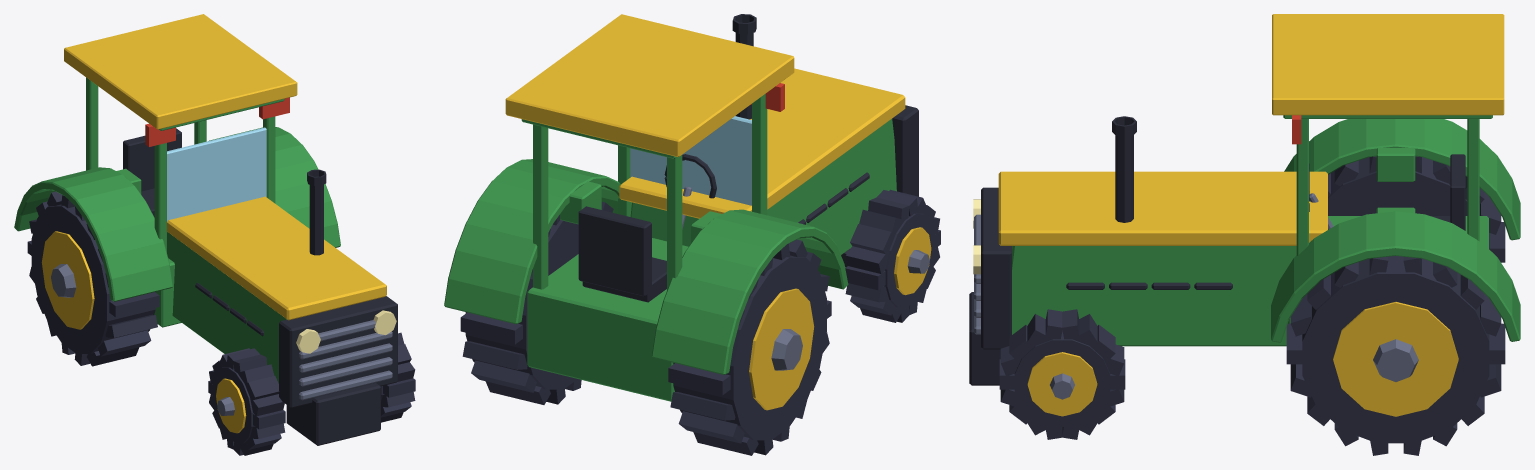
The model's file is myw_tractor.glb.
3 views of the same model, side by side, from view 1: azimuth 30°, elevation 25°; view 2: azimuth 150°, elevation 25°; view 3: azimuth 270°, elevation 25° (orthographic). The views are drawn at different scales.
Parts seen in each view (by area): view 1: Body, Cab, Fenders, RearWheelL, FrontWheelL, Details, FrontWheelR; view 2: Cab, Body, Fenders, RearWheelL, FrontWheelL, RearWheelR, Details; view 3: Body, RearWheelR, Cab, Fenders, FrontWheelR, RearWheelL, Details.
Part boxes in pixels (left/top/right/bottom): Body: left=154, top=196, right=397, bottom=445; Cab: left=64, top=14, right=297, bottom=252; Fenders: left=14, top=127, right=340, bottom=301; RearWheelL: left=27, top=191, right=159, bottom=366; FrontWheelL: left=208, top=348, right=285, bottom=455; Details: left=145, top=97, right=396, bottom=353; FrontWheelR: left=381, top=332, right=415, bottom=422; Cab: left=505, top=14, right=794, bottom=302; Body: left=527, top=68, right=918, bottom=401; Fenders: left=444, top=159, right=850, bottom=374; RearWheelL: left=668, top=239, right=831, bottom=455; FrontWheelL: left=845, top=189, right=940, bottom=322; RearWheelR: left=460, top=201, right=613, bottom=404; Details: left=732, top=14, right=906, bottom=119; Body: left=969, top=171, right=1488, bottom=385; RearWheelR: left=1286, top=256, right=1505, bottom=455; Cab: left=1272, top=14, right=1504, bottom=255; Fenders: left=1271, top=119, right=1520, bottom=342; FrontWheelR: left=999, top=309, right=1125, bottom=439; RearWheelL: left=1328, top=156, right=1505, bottom=262; Details: left=973, top=115, right=1301, bottom=274.
Size of the model in its own units: 4.4 by 4.79 by 7.11.
